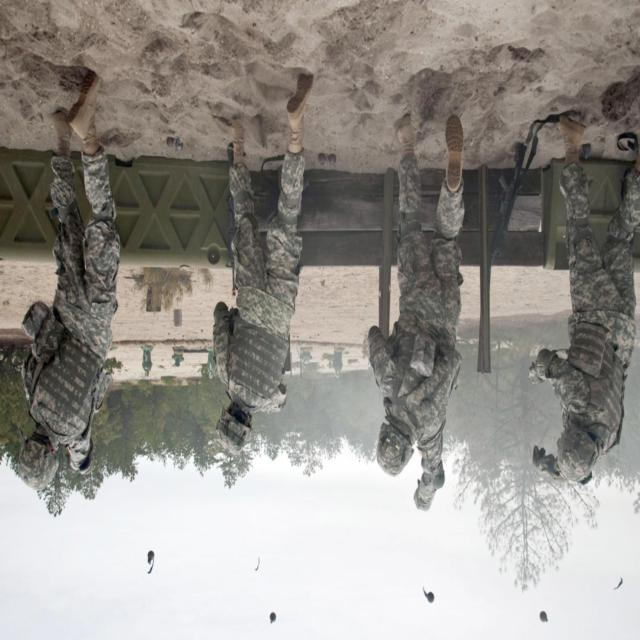grenade: (423, 587, 436, 606), (147, 549, 155, 578), (582, 145, 593, 166), (174, 137, 184, 157), (539, 610, 549, 628), (326, 154, 336, 172), (165, 134, 175, 151), (319, 154, 327, 172), (269, 614, 278, 628)
